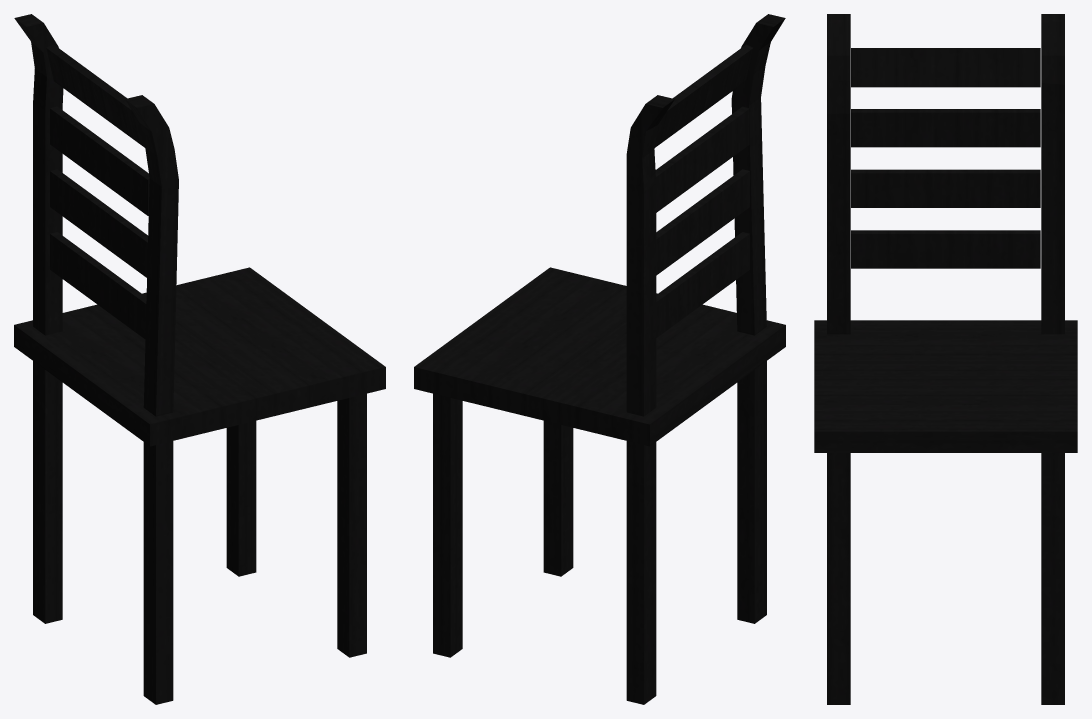
File: chair.glb
The picture shows the model from 3 angles, left to right: view 1: azimuth 30°, elevation 25°; view 2: azimuth 150°, elevation 25°; view 3: azimuth 270°, elevation 25°; orthographic projection. The views are drawn at different scales.
Parts seen in each view (by area): view 1: Raw_geometry_0; view 2: Raw_geometry_0; view 3: Raw_geometry_0.
Part boxes in pixels (<box>): Raw_geometry_0: <box>14,14,385,704</box>; Raw_geometry_0: <box>414,14,785,704</box>; Raw_geometry_0: <box>814,14,1077,704</box>.
Bounding box in the file's own units: 0.449 × 1.07 × 0.4371.
1 material, 1 textured.
